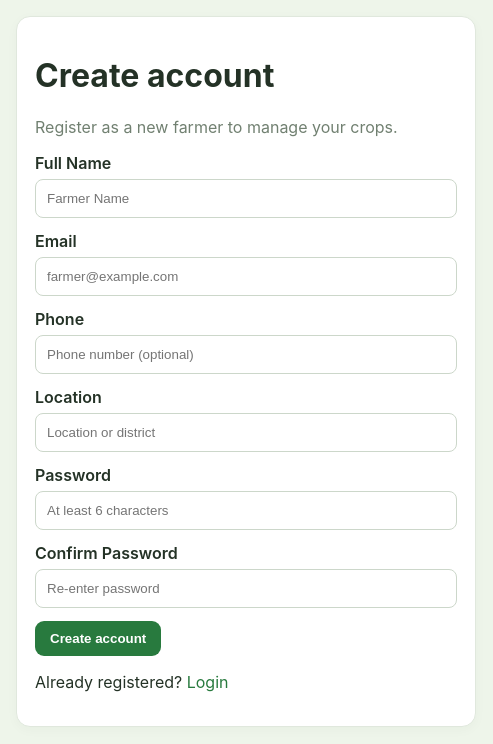
Test case: Register Component › shows error when passwords do not match
Type "Farmer John" into the field with placeholder "Farmer Name".
click(246, 198); type("Farmer John")  # box [35,179,457,218]
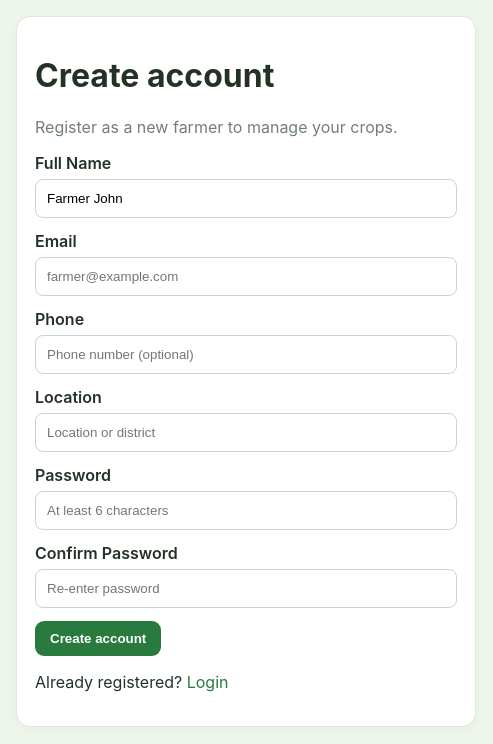
Type "john@example.com" into the field with placeholder "farmer@example.com".
click(246, 276); type("john@example.com")  # box [35,257,457,296]
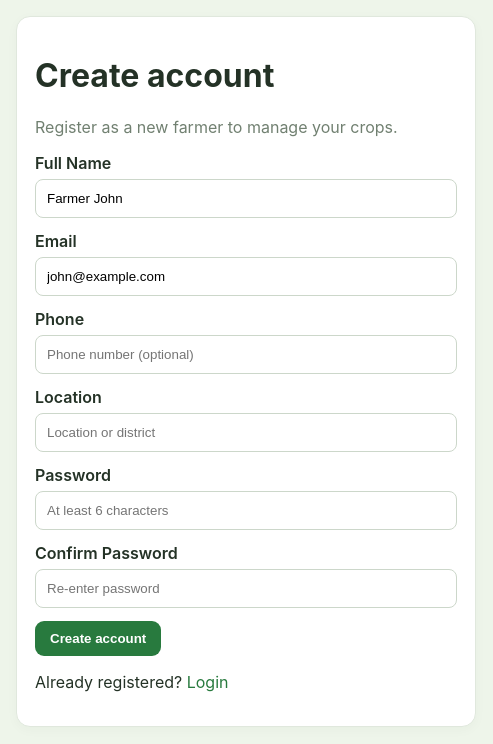
Type "password123" into the password field with placeholder "At least 6 characters".
click(246, 510); type("password123")  # box [35,491,457,530]
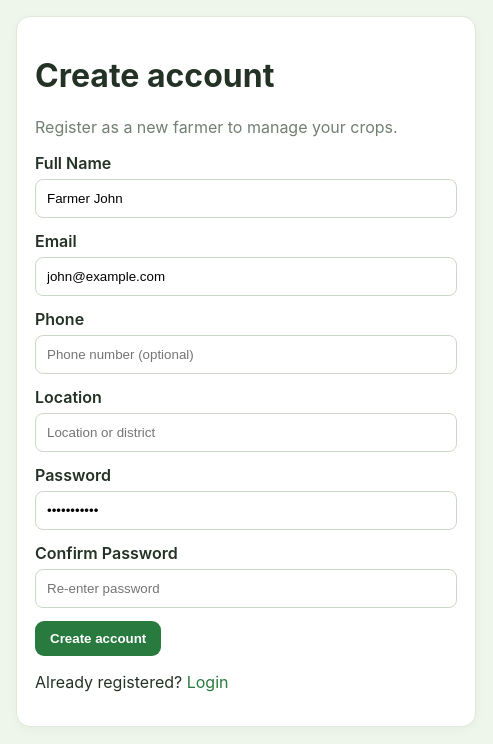
Type "mismatch456" into the password field with placeholder "Re-enter password".
click(246, 588); type("mismatch456")  # box [35,569,457,608]
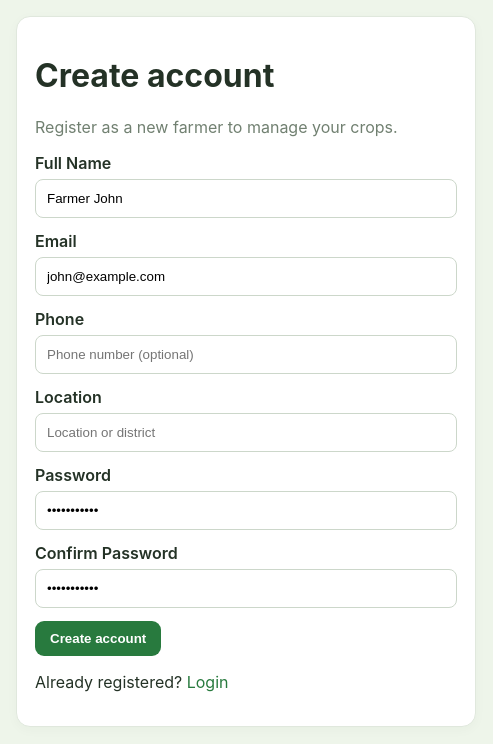
Click the button "Create account".
click(98, 638)  # box [35,621,161,656]
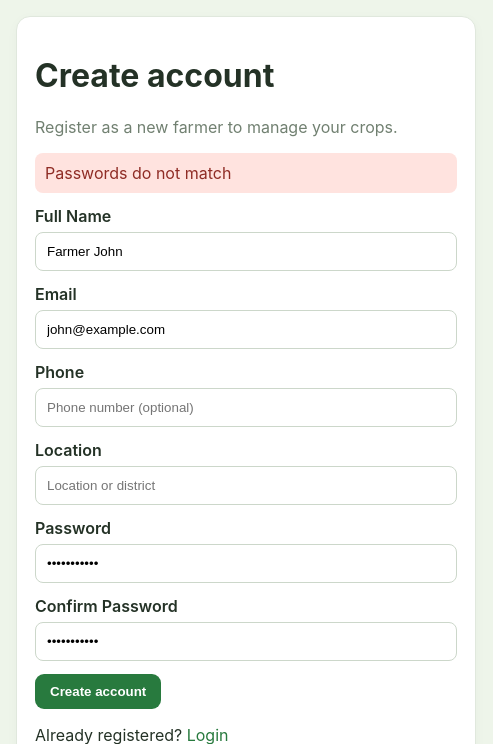
expect the text "Passwords do not match" is shown: met, box [35,153,457,193]
